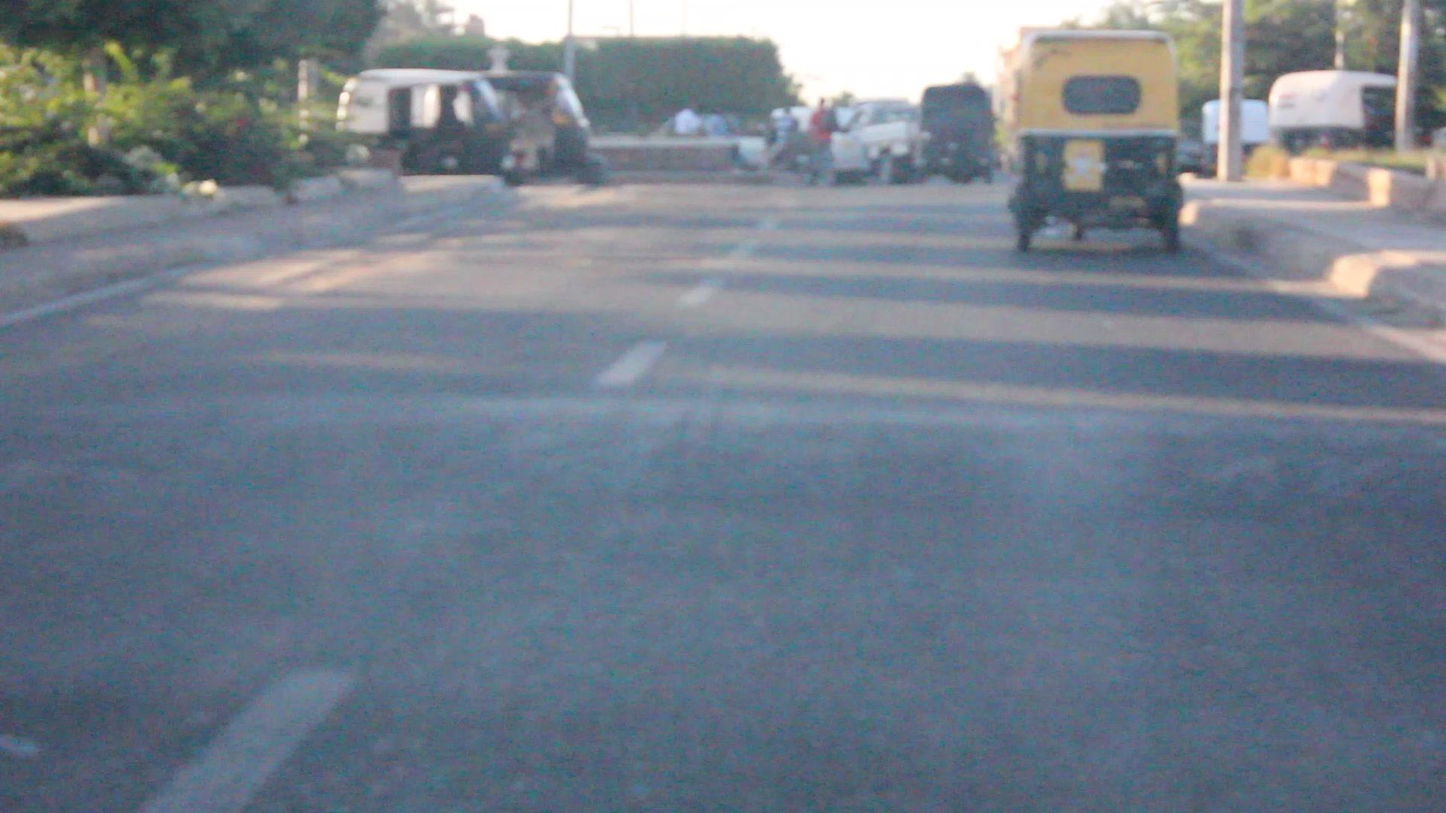Bump: (2, 369, 1442, 531)
